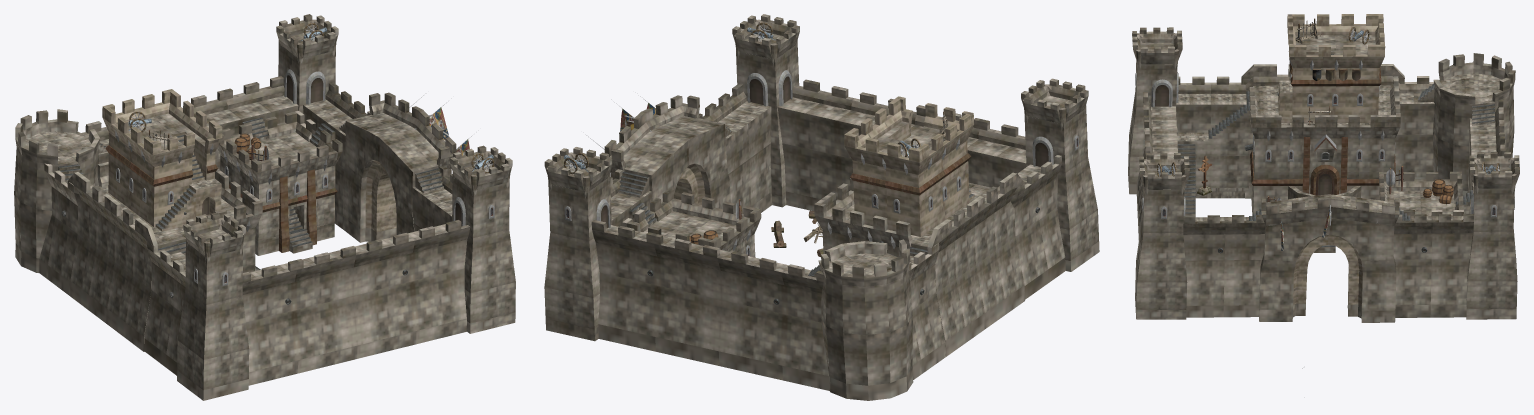
File: castle.fbx
3 views of the same model, side by side, from view 1: azimuth 30°, elevation 25°; view 2: azimuth 150°, elevation 25°; view 3: azimuth 270°, elevation 25° (orthographic). The views are drawn at different scales.
Visible parts, largest first — view 1: polySurface1; view 2: polySurface1; view 3: polySurface1.
Boxes of the visible parts, x1=… form: polySurface1: x1=14, y1=14, x2=515, y2=400; polySurface1: x1=544, y1=14, x2=1099, y2=400; polySurface1: x1=1128, y1=14, x2=1519, y2=368.
Bounding box in the file's own units: 2610 × 1589 × 2456.
Materials: 13 (9 with a texture image).
